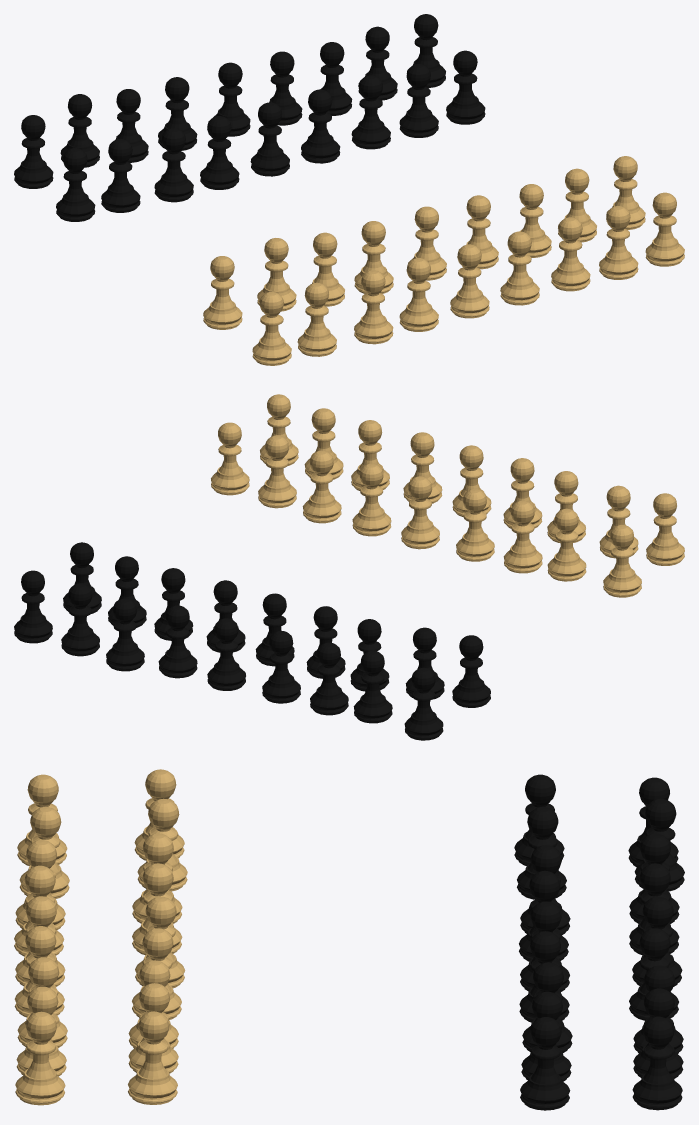
File: chess.fbx
The picture shows the model from 3 angles, top to bottom: view 1: azimuth 30°, elevation 25°; view 2: azimuth 150°, elevation 25°; view 3: azimuth 270°, elevation 25°; orthographic projection. The views are drawn at different scales.
Visible parts, largest first — view 1: Line039, Line036_1, Line038_1, Line040_1, Line010.001, Line035_1, Line038, Line041_2, Line036, Line040, Line042, Line008 (+24 smaller); view 2: Line010_1, Line010, Line011, Line014, Line009_1, Line042_1, Line015, Line011_1, Line014_1, Line012, Line012_1, Line042_3 (+24 smaller); view 3: Line042_3, Line042_1, Line042_2, Line042, Line035_1, Line014_1, Line010_1, Line010, Line035, Line041_1, Line012_1, Line041_3 (+24 smaller).
Boxes of the visible parts, box(x1,y1,x2,y2) form: Line039: box(500, 231, 539, 305); Line036_1: box(154, 128, 193, 202); Line038_1: box(250, 102, 289, 176); Line040_1: box(351, 75, 390, 149); Line010.001: box(203, 256, 242, 329); Line035_1: box(101, 139, 140, 212); Line038: box(450, 244, 489, 318); Line041_2: box(399, 64, 438, 137); Line036: box(354, 270, 393, 344); Line040: box(551, 217, 590, 291); Line042: box(645, 192, 684, 266); Line008: box(252, 292, 291, 365); Line010_1: box(353, 650, 392, 723); Line010: box(547, 508, 586, 581); Line011: box(503, 500, 542, 573); Line014: box(352, 463, 391, 536); Line009_1: box(404, 667, 443, 740); Line042_1: box(211, 422, 249, 495); Line015: box(302, 450, 341, 523); Line011_1: box(310, 642, 348, 715); Line014_1: box(158, 605, 197, 678); Line012: box(456, 489, 494, 561); Line012_1: box(262, 630, 300, 703); Line042_3: box(14, 570, 52, 643); Line042_3: box(632, 1016, 682, 1110); Line042_1: box(128, 1011, 177, 1104); Line042_2: box(520, 1017, 570, 1110); Line042: box(15, 1011, 65, 1105); Line035_1: box(517, 806, 566, 899); Line014_1: box(629, 928, 678, 1020); Line010_1: box(634, 798, 684, 891); Line010: box(137, 798, 187, 891); Line035: box(19, 806, 69, 898); Line041_1: box(128, 983, 178, 1073); Line012_1: box(629, 863, 679, 954); Line041_3: box(633, 988, 683, 1078).
Bounding box in the file's own units: 758 × 131 × 800.
